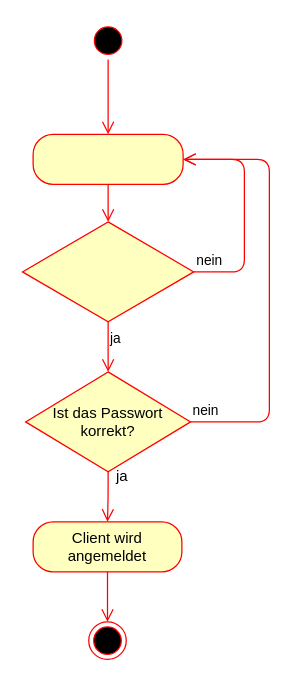
Some shapes in this 304 by 681 pixel diagram are drawn without their labels. The shapes that lost their labels are listed below. From the top down, each one's centre as x and y in pixels, then its label:
At [107,158]: "Anmelden mit Email und Passwort".
At [107,271]: "Existiert dieser User?".
